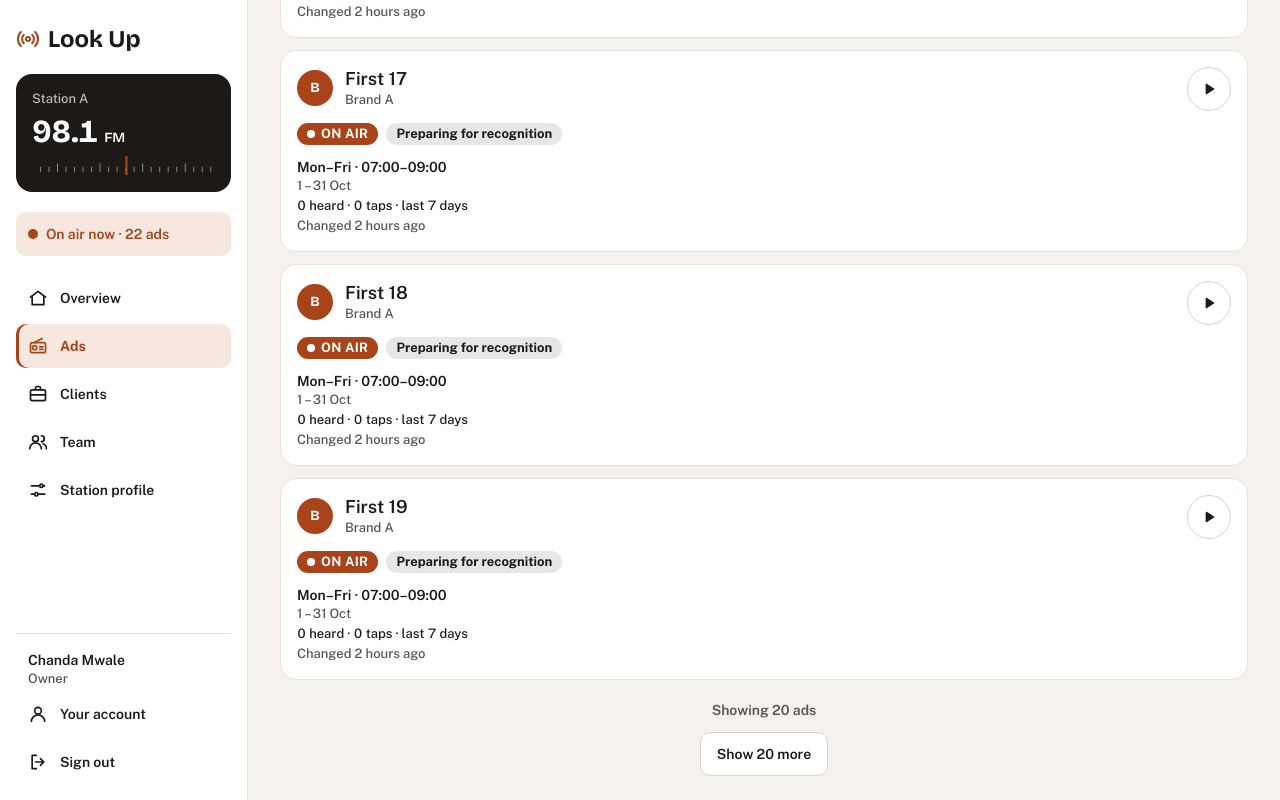
Ads list › more ads › shows 20 more when there are more, adds them to the list, and then stops offering
This screenshot has width=1280, height=800.
(page scrolled)
expect the text "Showing 20 ads" is shown: met, box [712, 700, 816, 720]
Step 1. Click the button "Show 20 more" → (764, 754), box [700, 732, 828, 776]
(page scrolled)
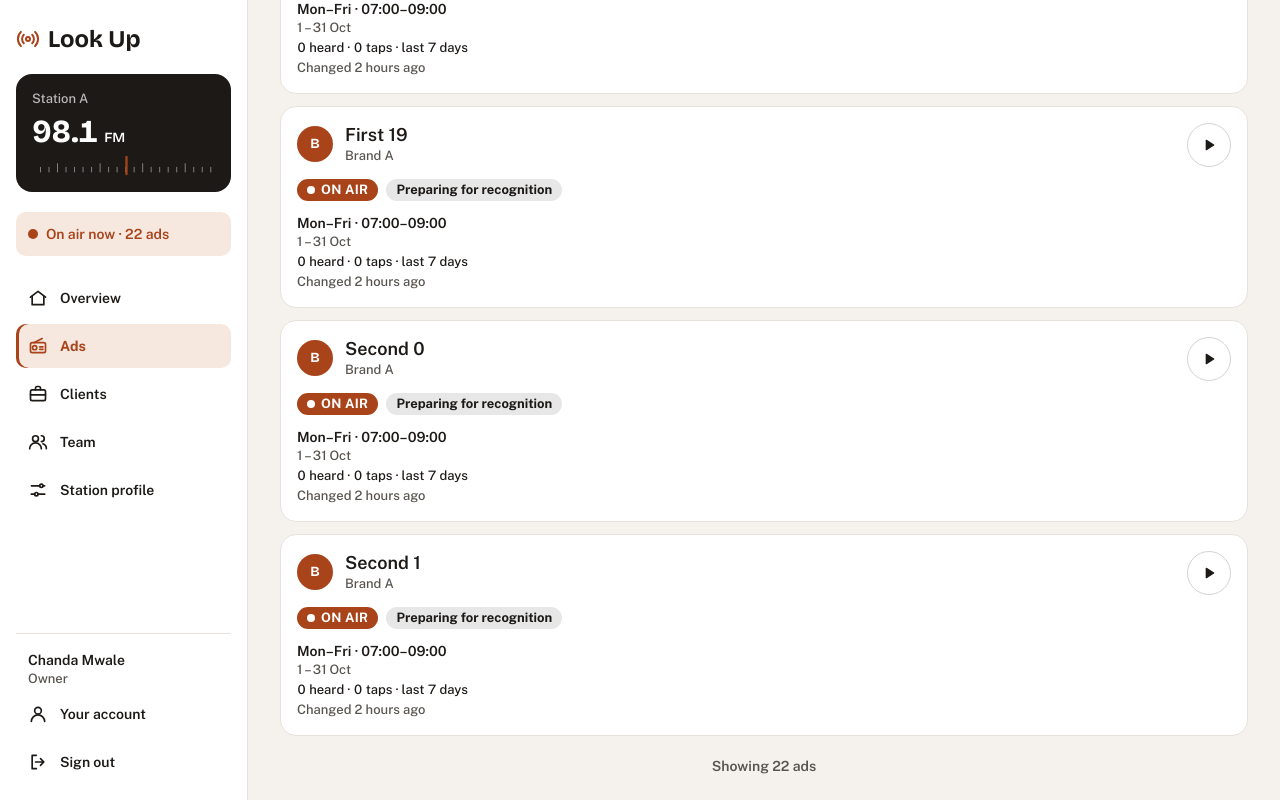
expect the text "Showing 22 ads" is shown: met, box [712, 756, 816, 776]
expect the link "Second 1" is shown: met, box [345, 552, 421, 573]
expect the button "Show 20 more" is gone: met
